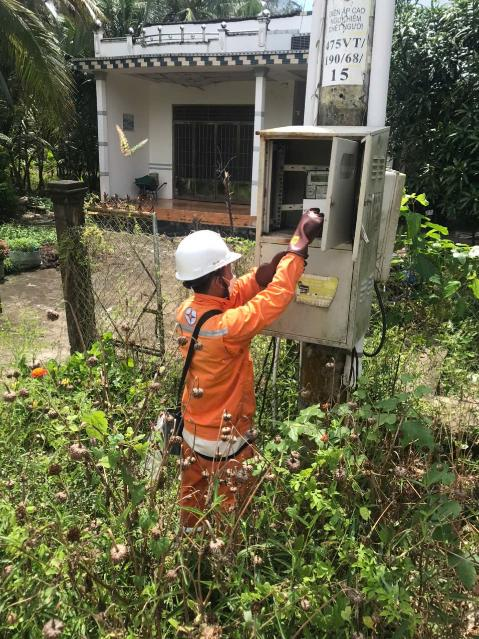gloves: (286, 201, 327, 266), (242, 252, 306, 286)
helmet: (169, 228, 242, 281)
